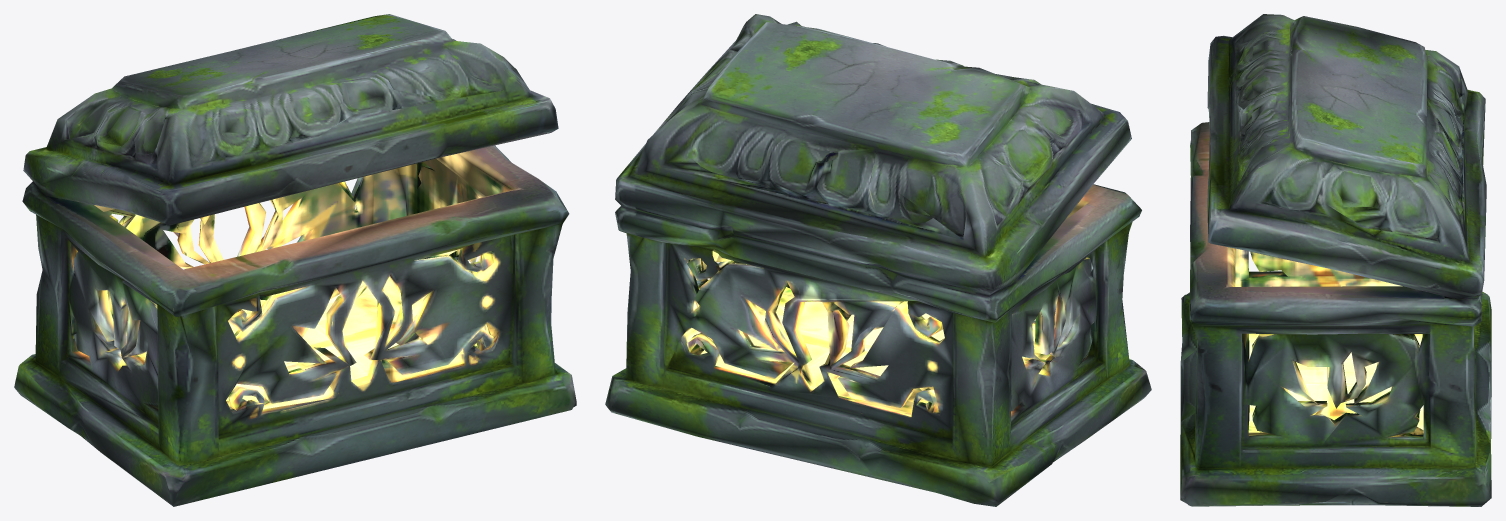
Rendered from Meshy_AI_Luminous_Lotus_Chest_0722073915_texture.glb.
3 views of the same model, side by side, from view 1: azimuth 30°, elevation 25°; view 2: azimuth 150°, elevation 25°; view 3: azimuth 270°, elevation 25° (orthographic). The views are drawn at different scales.
Parts seen in each view (by area): view 1: mesh_node; view 2: mesh_node; view 3: mesh_node.
Boxes of the visible parts, <box> form: mesh_node: <box>14,14,576,506</box>; mesh_node: <box>605,14,1151,506</box>; mesh_node: <box>1180,14,1491,506</box>.
Bounding box in the file's own units: 1.9 × 1.57 × 1.31.
Materials: 1 (1 with a texture image).
